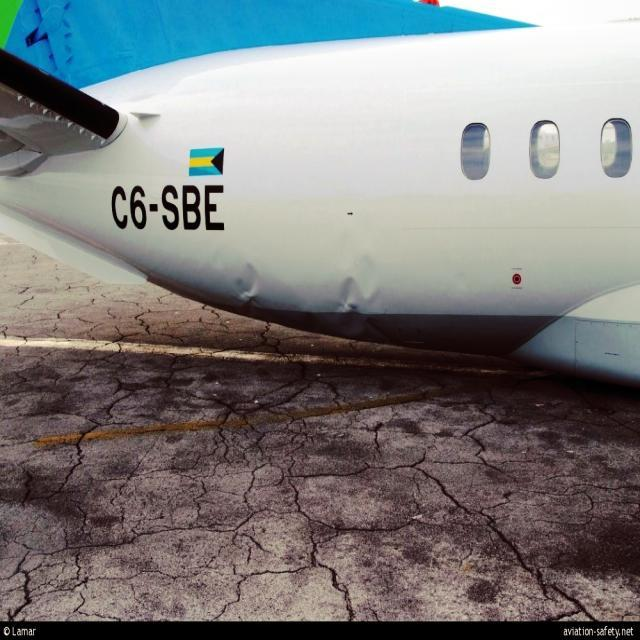dent: (335, 254, 383, 342), (232, 257, 267, 316)
